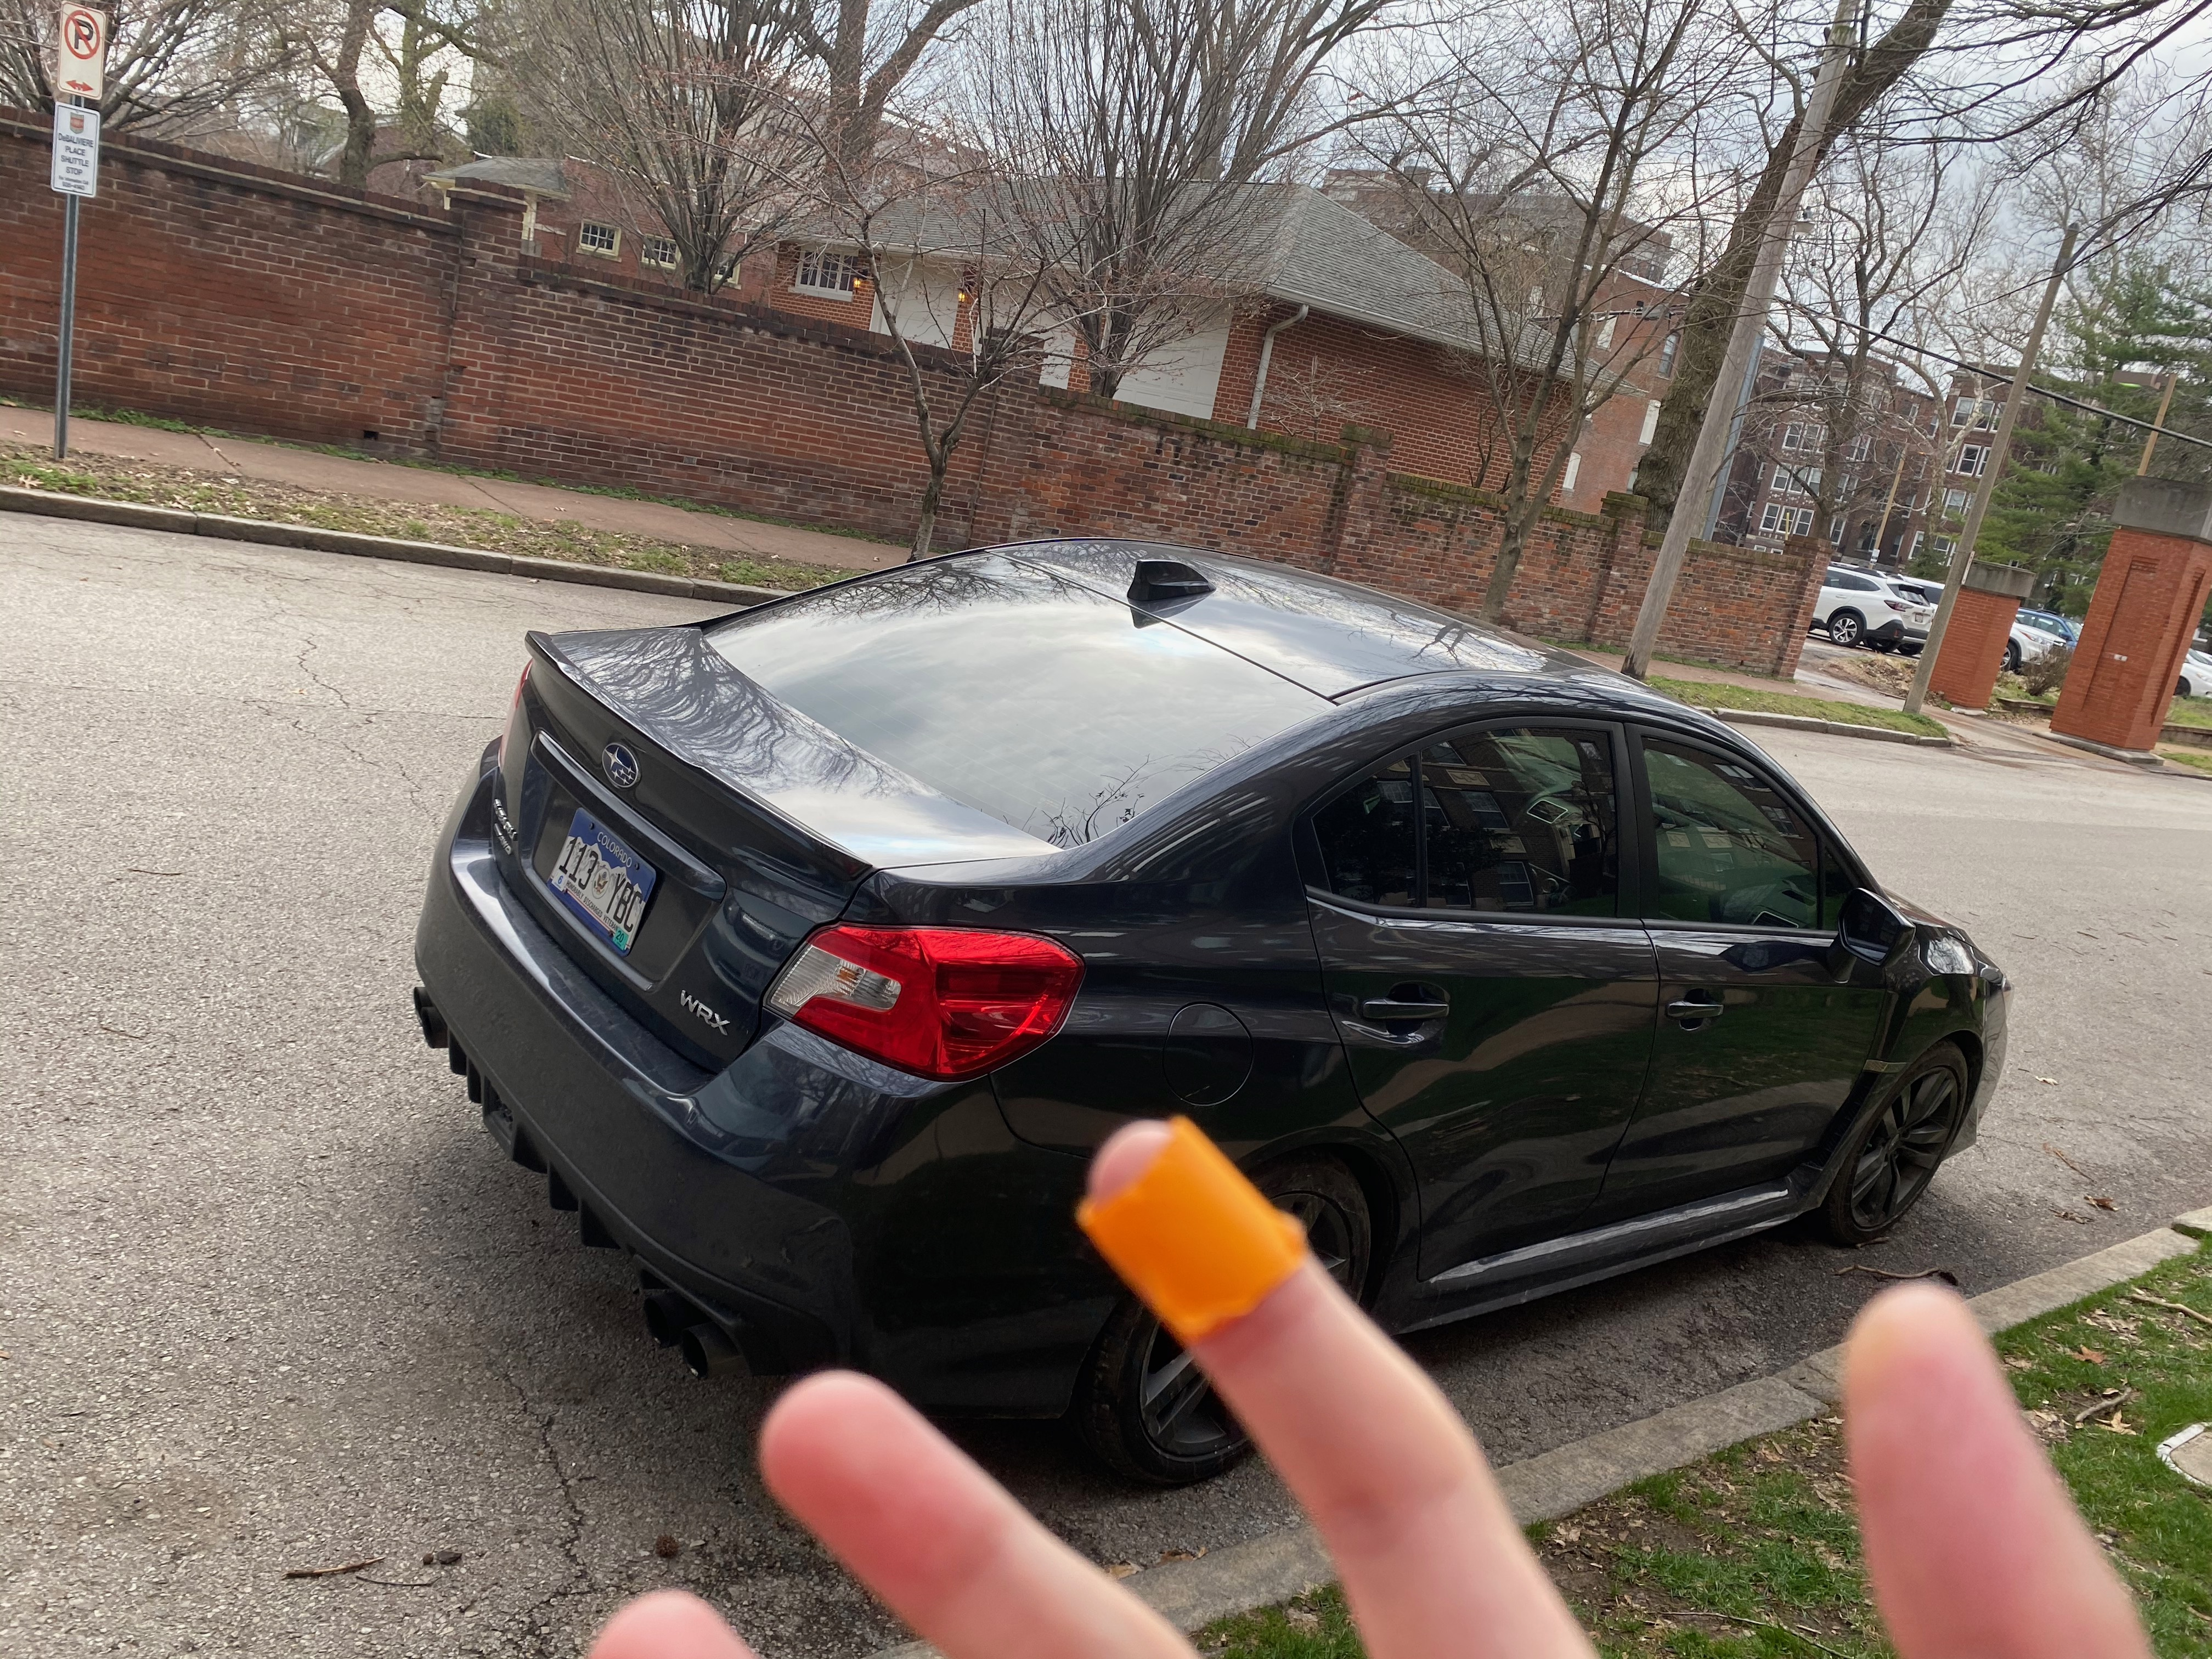fingertip: (1049, 1110, 1353, 1399)
